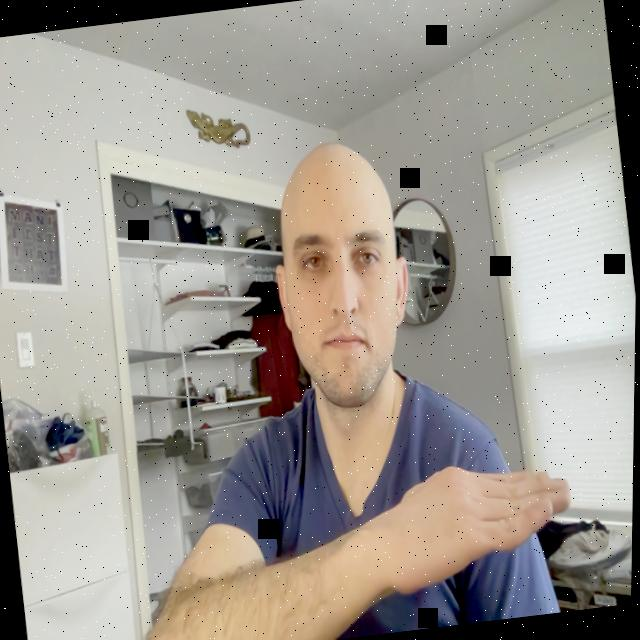Paper: (383, 448, 584, 598)
